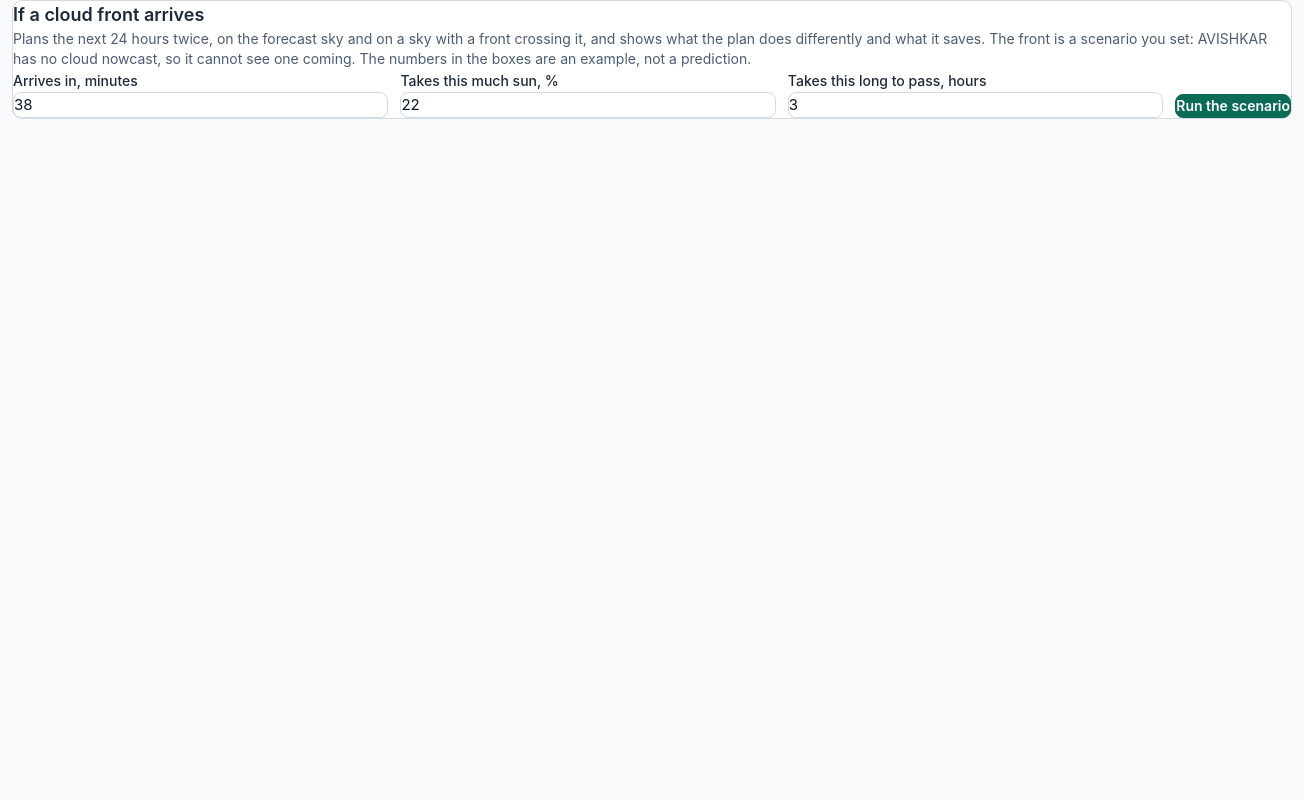
Test: CloudFrontPanel › shows the situation, the advice, and with against without, every figure the planner's, with its label
Step 1. Click the button "Run the scenario" → (1233, 106), box [1175,94,1291,118]
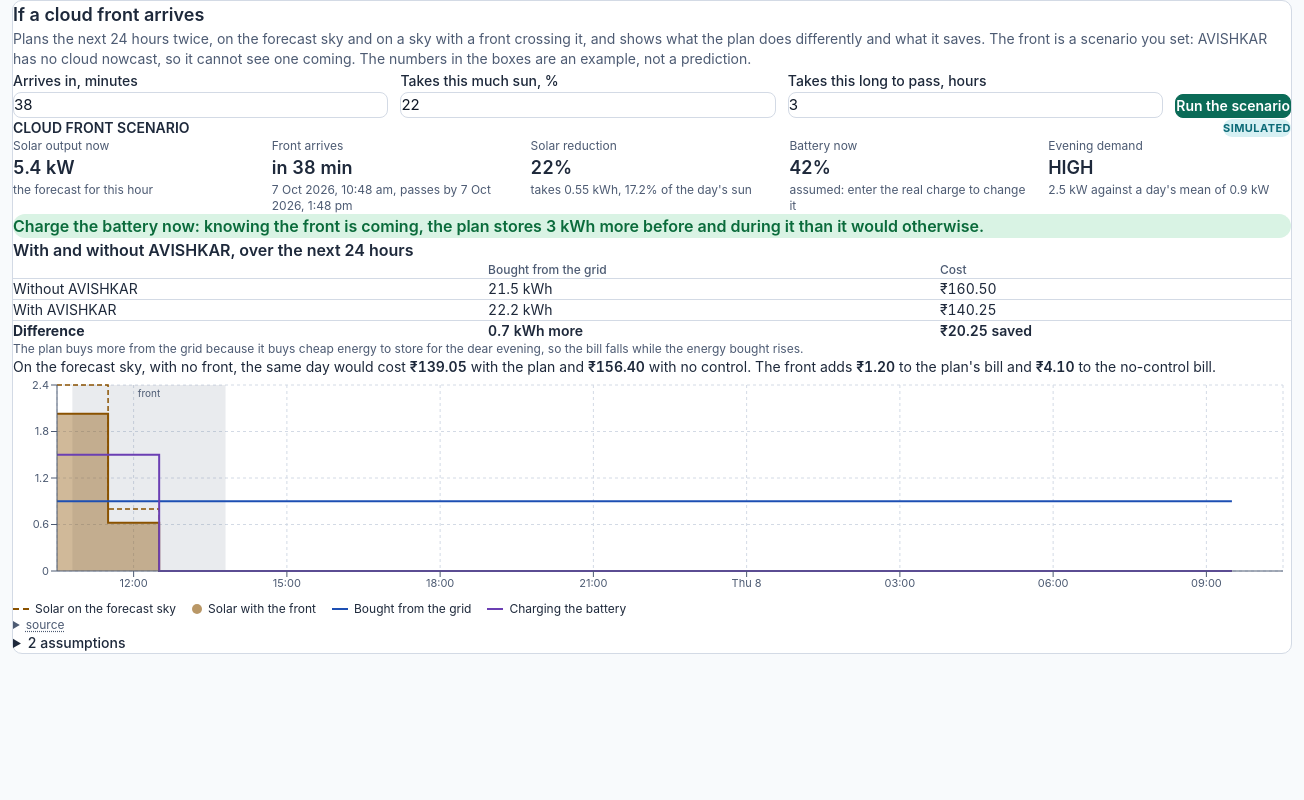
Expected: the text "SIMULATED" is shown, [1223,118,1291,136]
Expected: the text "CLOUD FRONT SCENARIO" is shown, [13,118,190,138]
Expected: the text "5.4 kW" is shown, [13,156,75,178]
